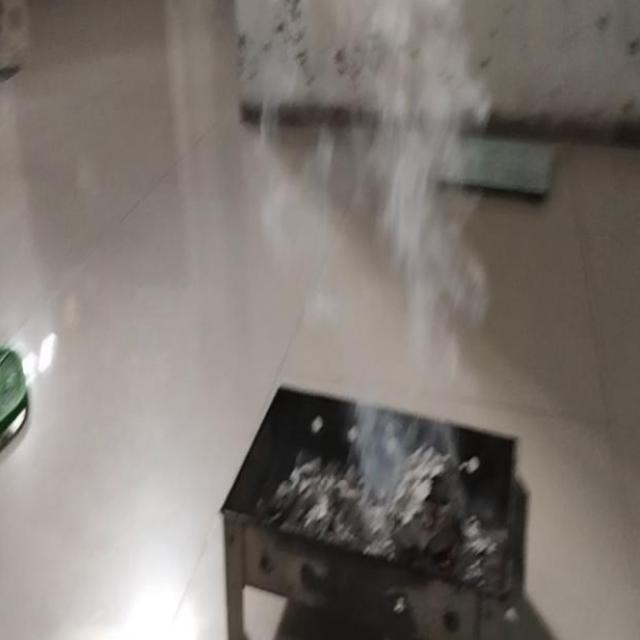fire: (346, 0, 475, 490)
